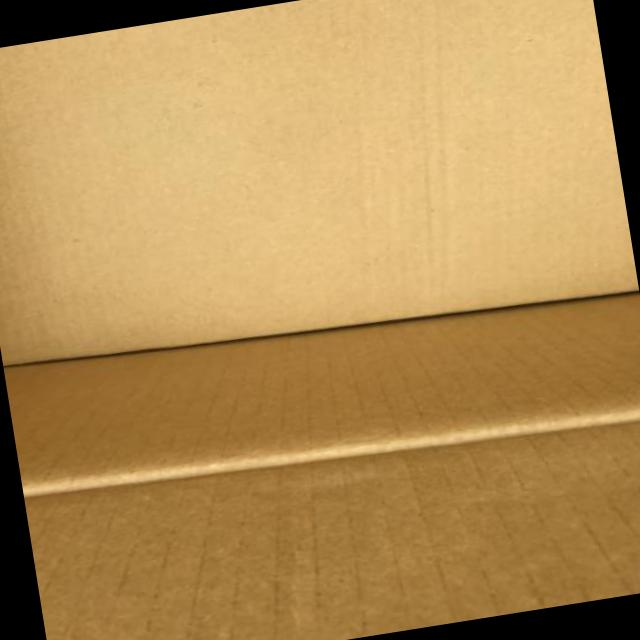cardboard: (0, 0, 639, 639), (0, 0, 637, 363), (27, 420, 639, 639), (4, 293, 639, 494)
